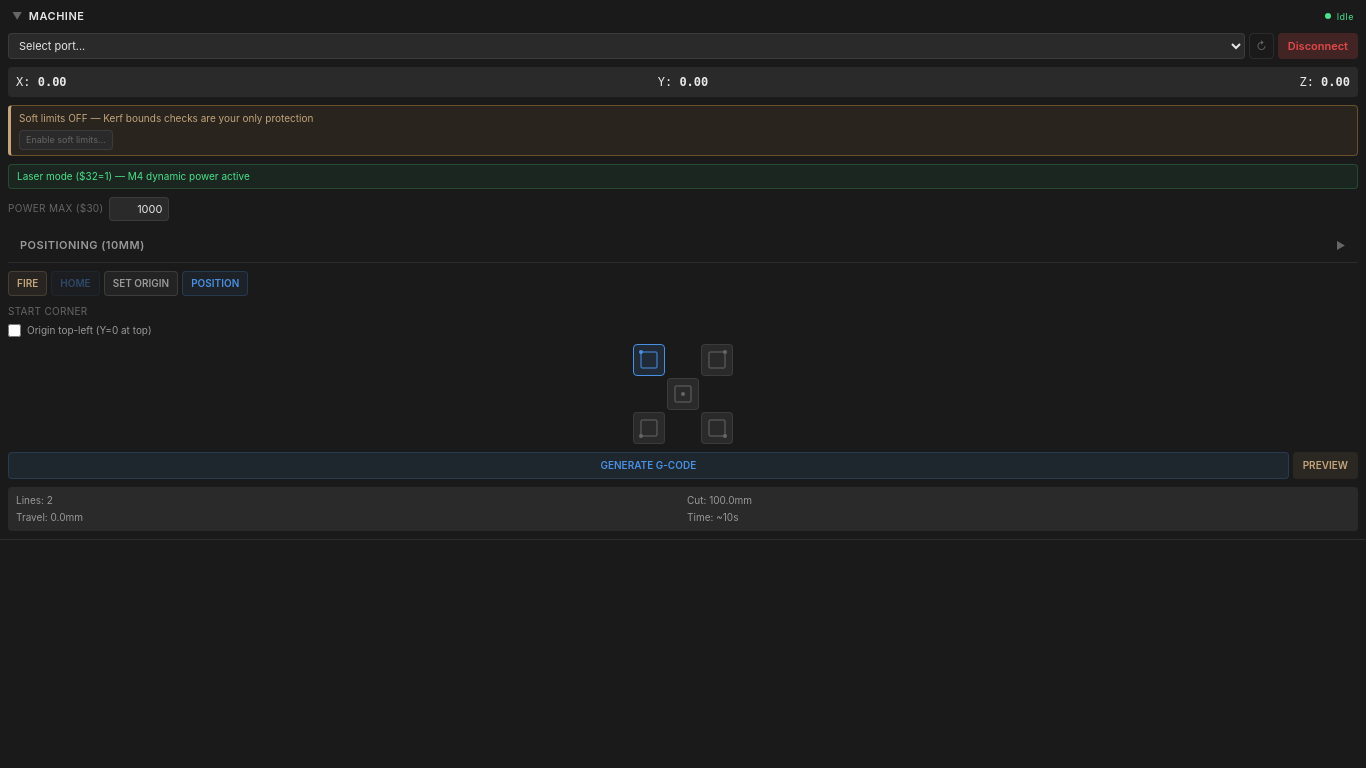
Test: S3 — MachinePanel and StatusBar › Jen S3: a jog refused at the edge shows its reason in the note slot
Click the text "Positioning (10mm)" at (82, 245), box [20, 237, 145, 254]
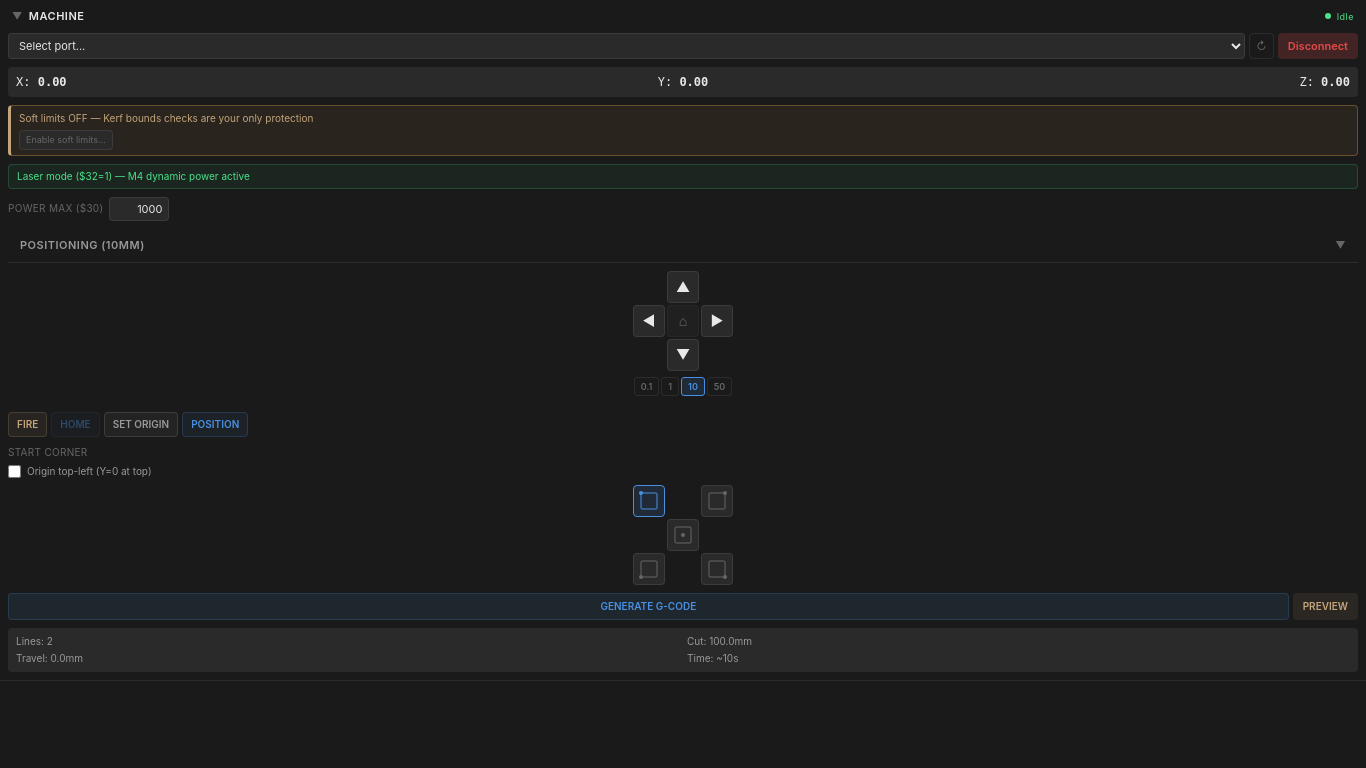
Click the button titled "X-" at (649, 320), box [633, 304, 665, 336]
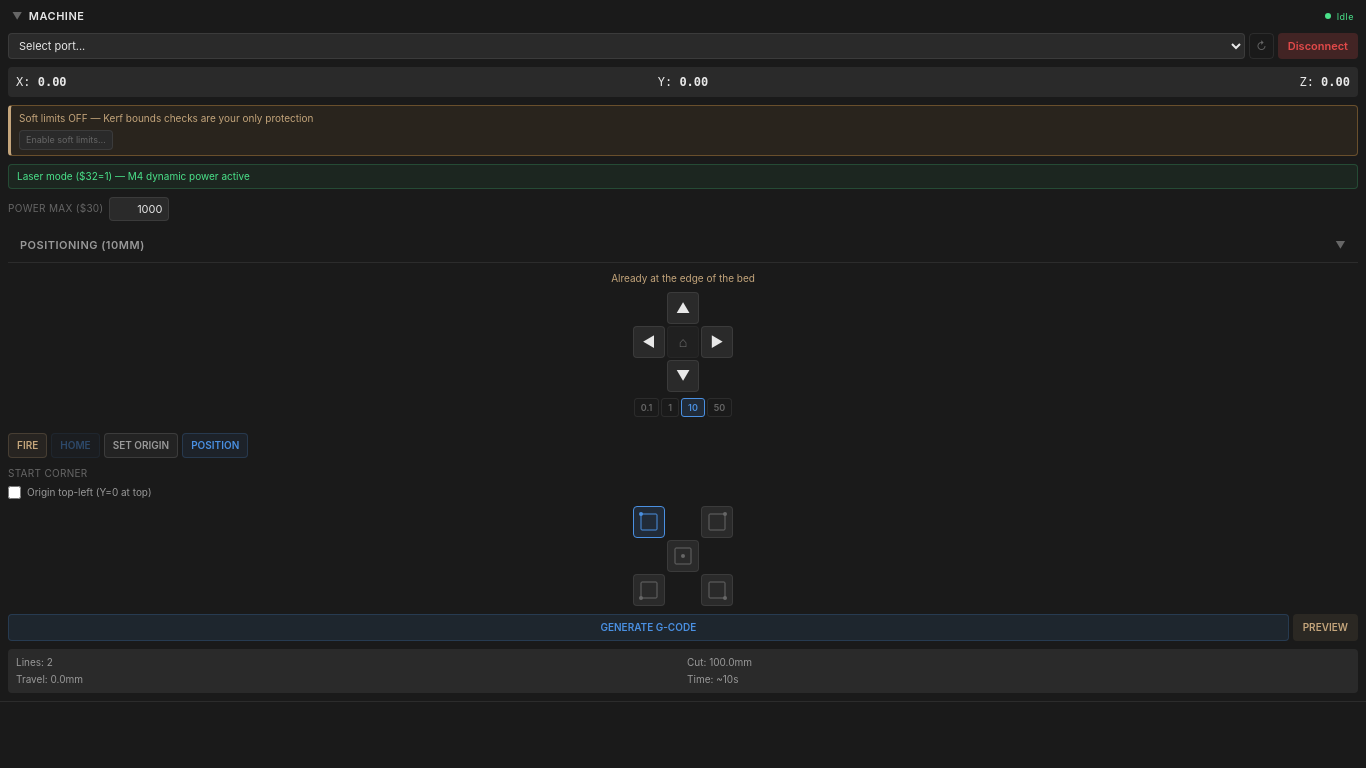
Now the text with test id "jog-blocked-note" reads "Already at the edge of the bed", box [611, 272, 755, 284]
